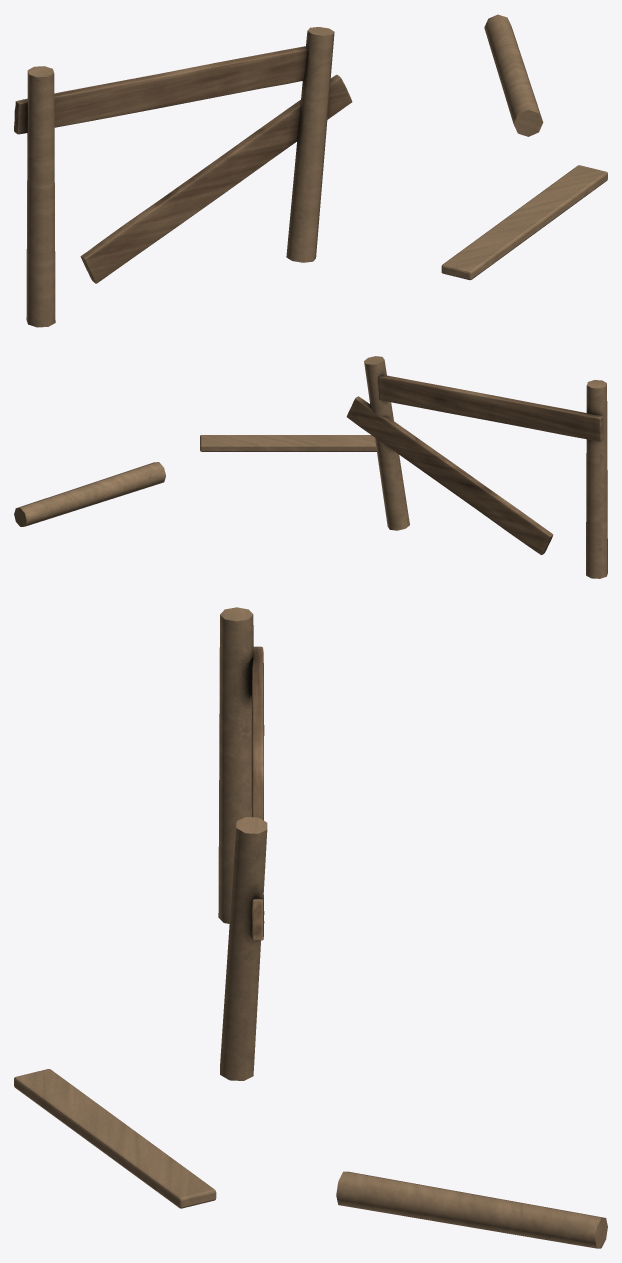
The model's file is cenario_cerca_quebrada.glb.
The picture shows the model from 3 angles, top to bottom: view 1: azimuth 30°, elevation 25°; view 2: azimuth 150°, elevation 25°; view 3: azimuth 270°, elevation 25°; orthographic projection. The views are drawn at different scales.
Parts seen in each view (by area): view 1: cenario_cerca_quebrada_tronco; view 2: cenario_cerca_quebrada_tronco; view 3: cenario_cerca_quebrada_tronco.
Part boxes in pixels (<box>): cenario_cerca_quebrada_tronco: <box>14,14,607,327</box>; cenario_cerca_quebrada_tronco: <box>14,356,607,578</box>; cenario_cerca_quebrada_tronco: <box>14,607,607,1248</box>.
Size of the model in its own units: 2.93 by 1.11 by 1.95.
1 material, 1 textured.
